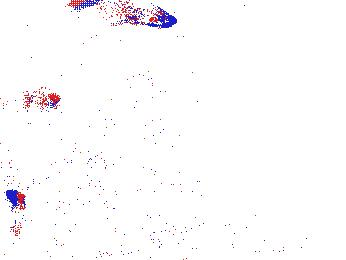glassfish: (78, 147, 181, 202)
redtail glassfish: (73, 1, 177, 30), (7, 184, 27, 237), (23, 85, 62, 112)
